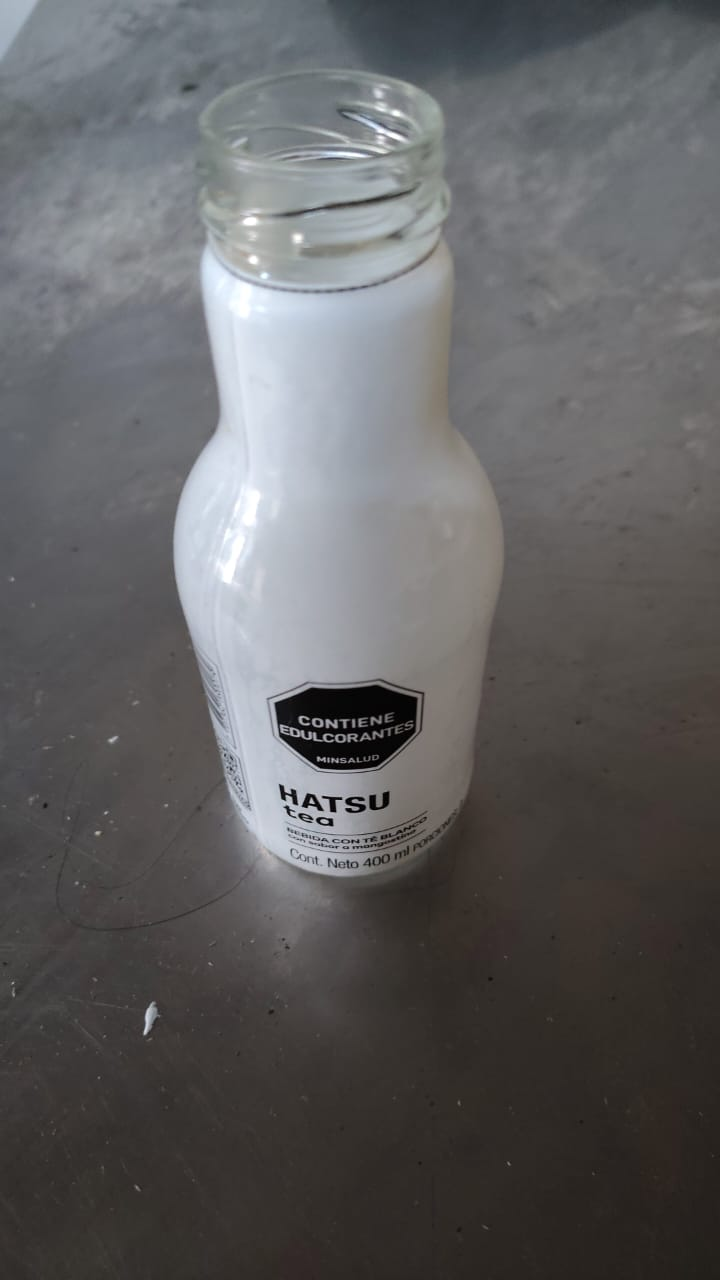Vidrio: (171, 73, 507, 877)
